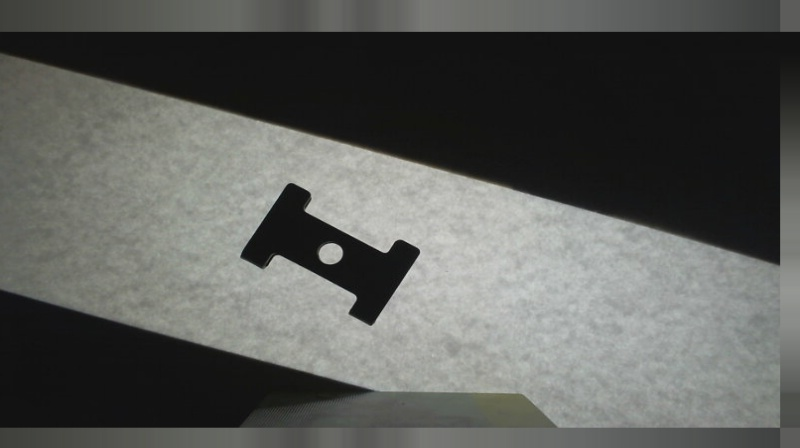O002: (235, 181, 424, 326)
